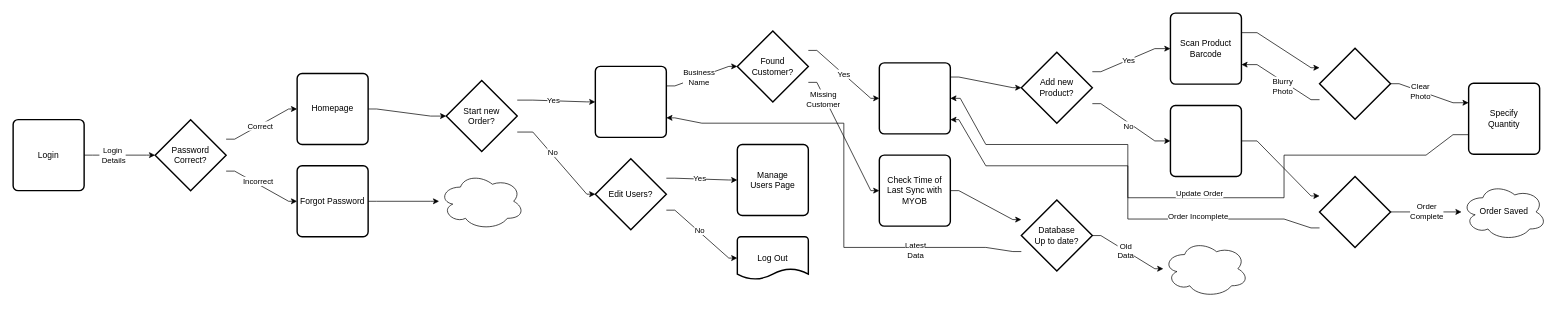
This 1559x310 diagram has some shape labels left out. The shapes that lost their labels are listed below. From the top down, each one's centre as x and y in pixels, then its label:
point 630,101: Customer Search Page
point 914,98: Manage Order
point 1354,83: Clean Scan?
point 1205,140: Order Confirmation
point 481,201: Recovery Email
point 1354,211: Order Complete?
point 1206,268: Refresh MYOB Connection
